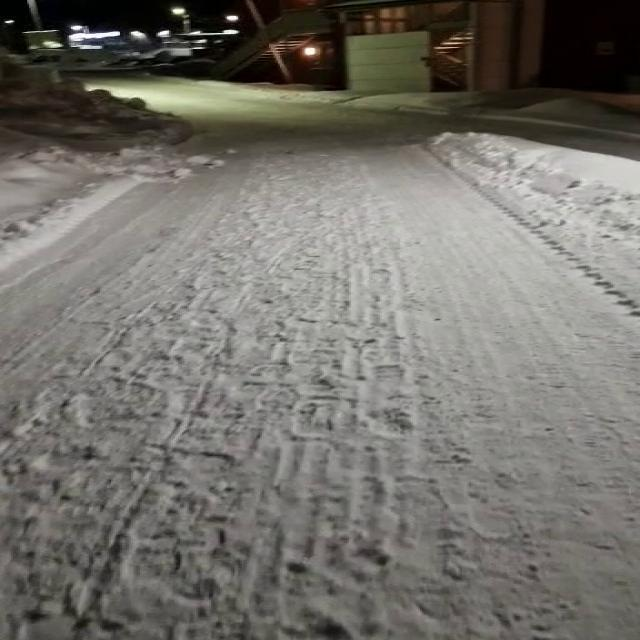path: (0, 76, 636, 640)
